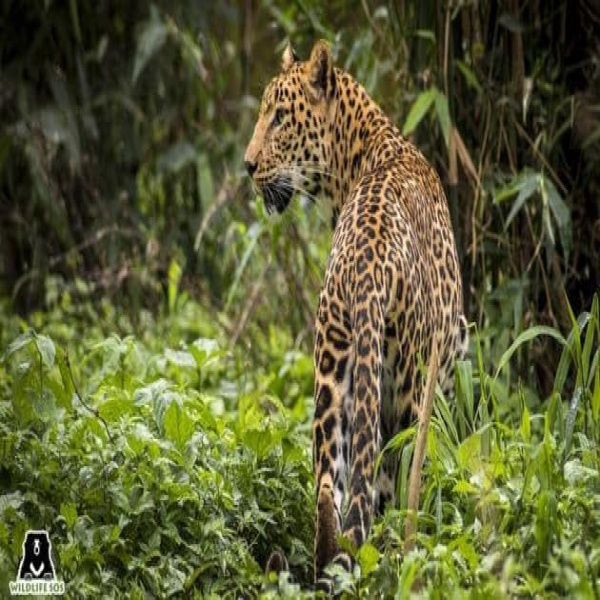Leopard: (241, 37, 471, 600)
